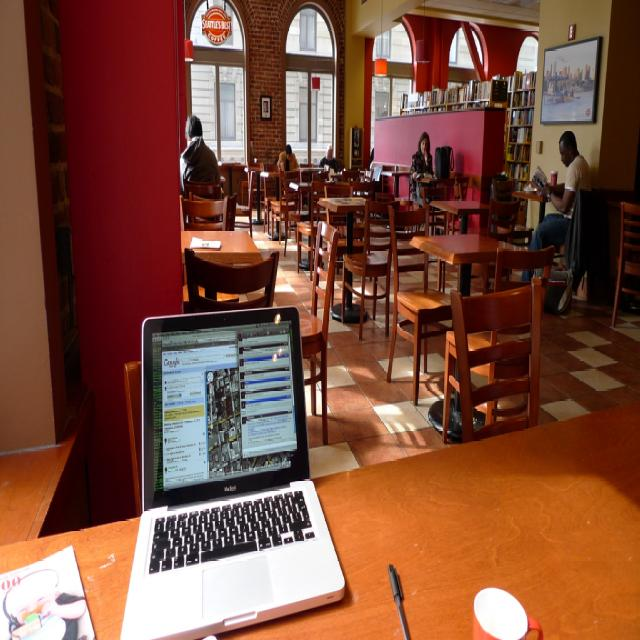chair: (442, 279, 546, 443), (387, 202, 452, 402), (297, 220, 342, 447), (182, 232, 284, 307), (342, 199, 392, 340), (610, 201, 640, 329), (492, 246, 556, 294), (296, 172, 326, 274), (265, 171, 299, 245), (180, 192, 232, 231)
desk: (0, 399, 639, 639)
laptop: (120, 306, 348, 636)
person: (529, 129, 592, 262), (180, 115, 220, 196), (410, 132, 434, 179), (283, 143, 299, 171)
tv: (540, 36, 603, 126)
